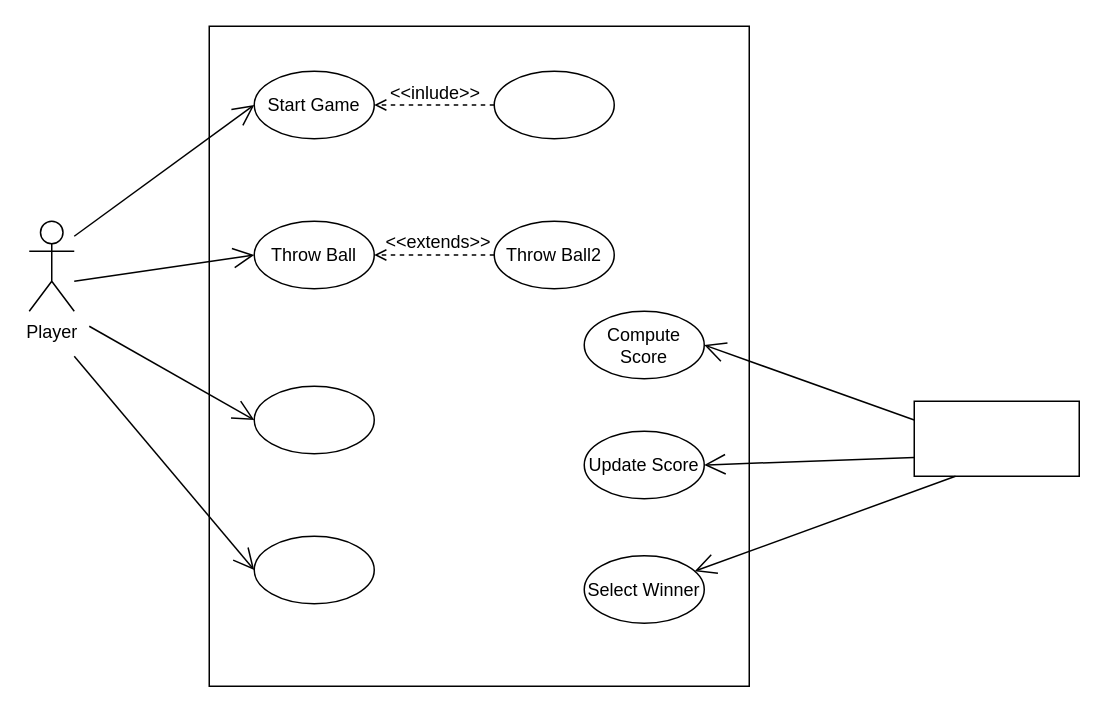
This 1106x713 diagram has some shape labels left out. The box of each missing label's shape, as (x1, y1, x2, y2) in pixels:
Check Score: (253, 385, 374, 454)
Exit: (253, 535, 374, 604)
Select Level: (493, 70, 614, 139)
«actor» Game Manager: (913, 400, 1079, 476)
